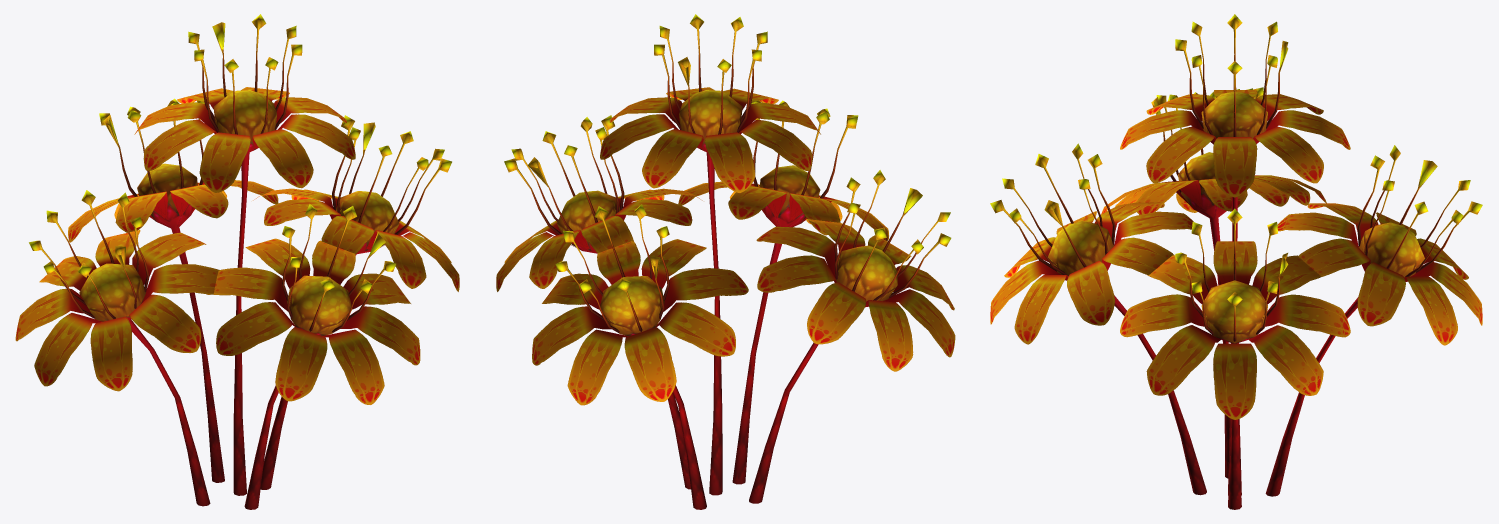
The model's file is Red_Flower_02c.FBX.
3 views of the same model, side by side, from view 1: azimuth 30°, elevation 25°; view 2: azimuth 150°, elevation 25°; view 3: azimuth 270°, elevation 25° (orthographic).
Parts seen in each view (by area): view 1: Red_Flower_02c; view 2: Red_Flower_02c; view 3: Red_Flower_02c.
Boxes of the visible parts, left/top/right/bottom form: Red_Flower_02c: left=15, top=14, right=459, bottom=509; Red_Flower_02c: left=496, top=14, right=955, bottom=509; Red_Flower_02c: left=990, top=14, right=1482, bottom=509.
Bounding box in the file's own units: 95.7 × 97.79 × 95.93.
